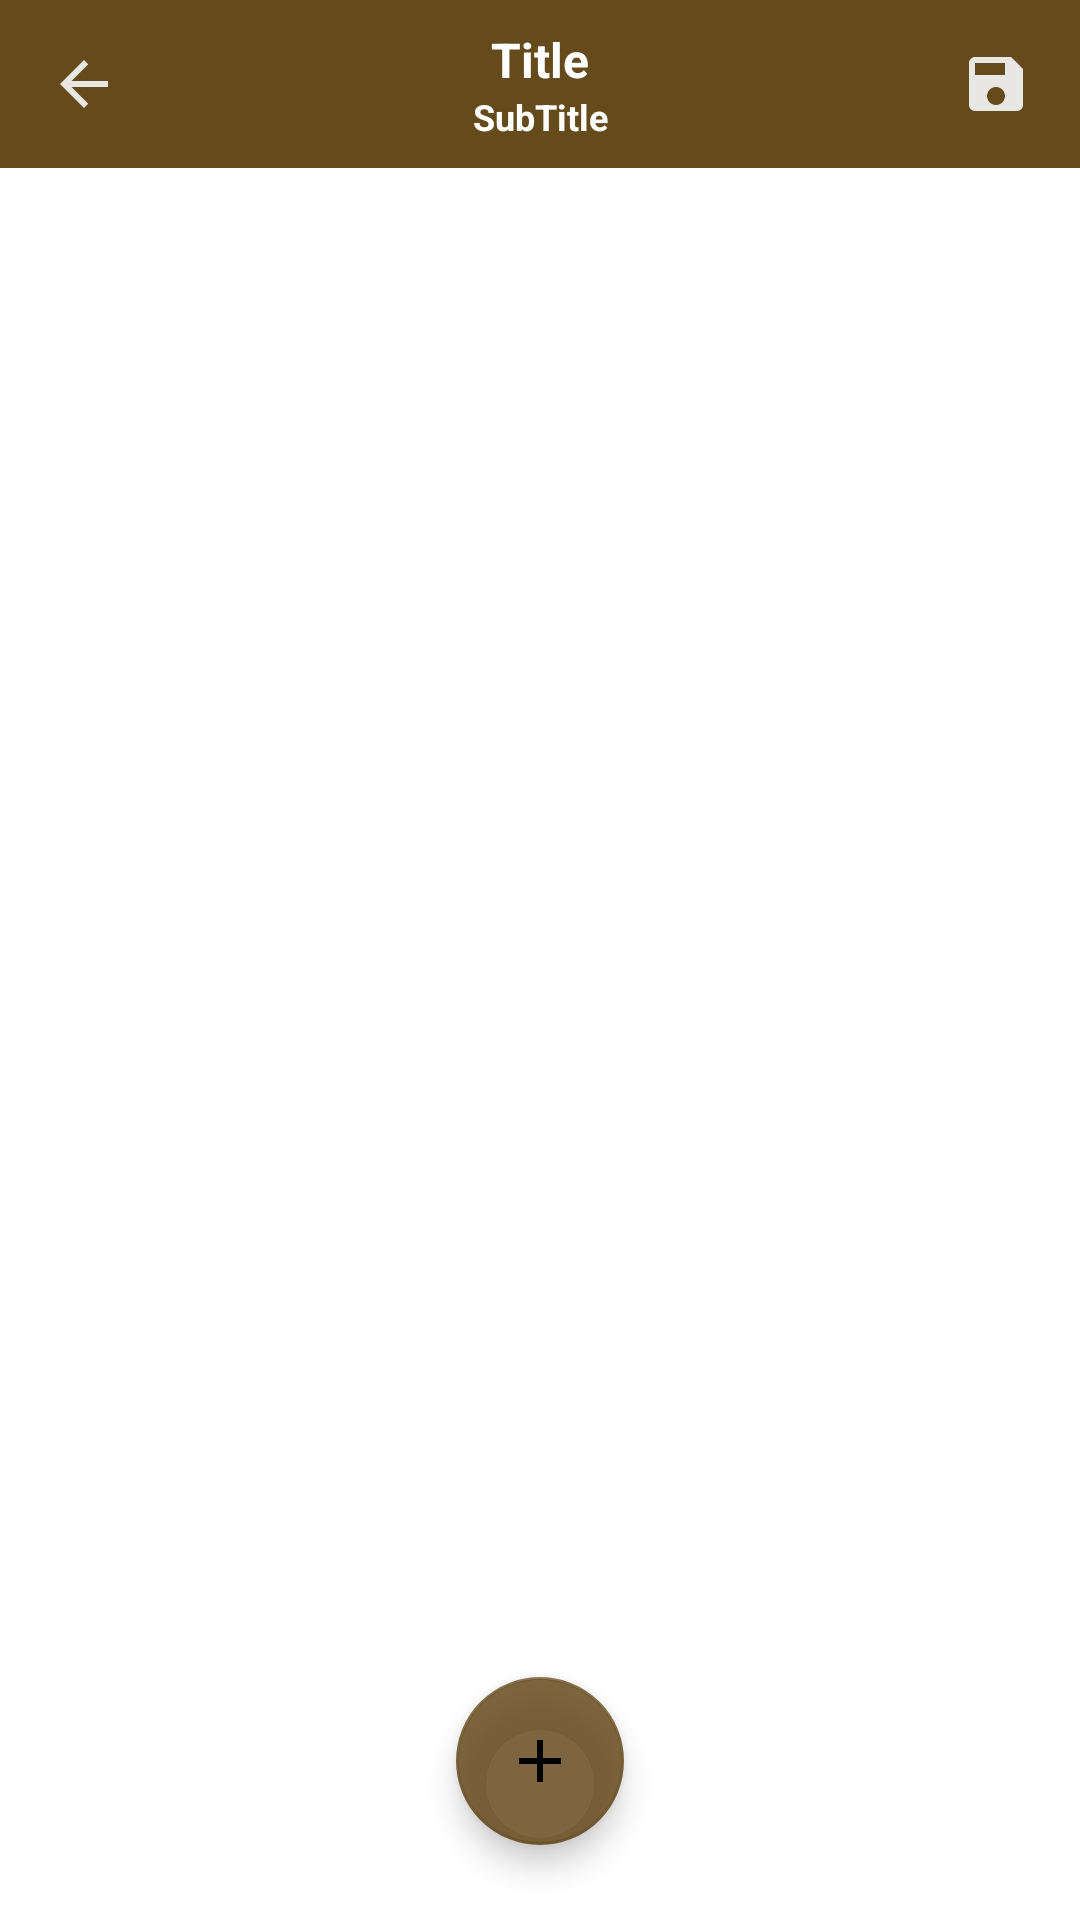

Locate icon controls on the screen. Image size 1080px×1920px, boxes as (x1, y1, x2, y2).
add: (456, 1677, 624, 1845)
arrow back: (60, 60, 108, 108)
save: (969, 57, 1023, 111)
